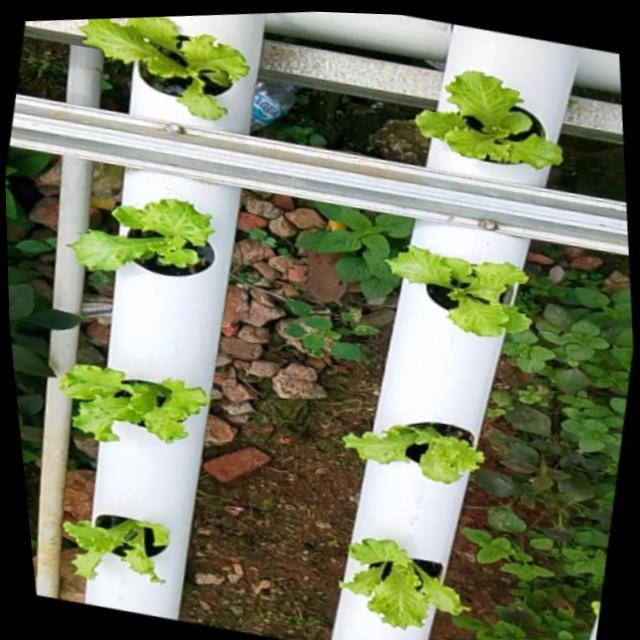Baby: (77, 16, 248, 118), (417, 64, 566, 180), (385, 239, 533, 332), (67, 356, 216, 435), (344, 528, 474, 618), (75, 191, 222, 269), (348, 414, 489, 475), (70, 505, 176, 572)
